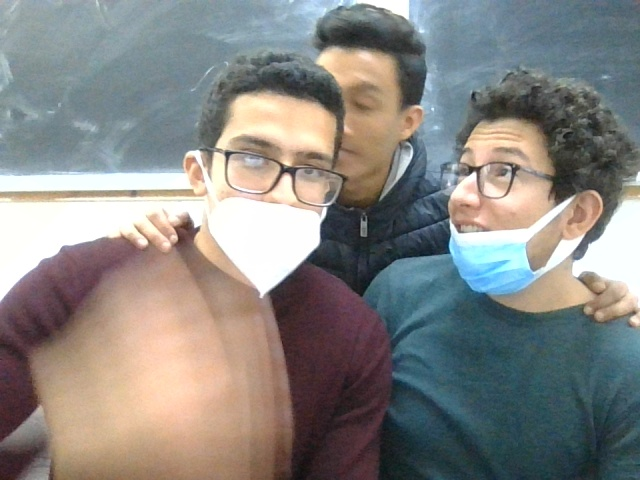mask_weared_incorrect: (181, 54, 347, 298), (445, 73, 617, 291)
